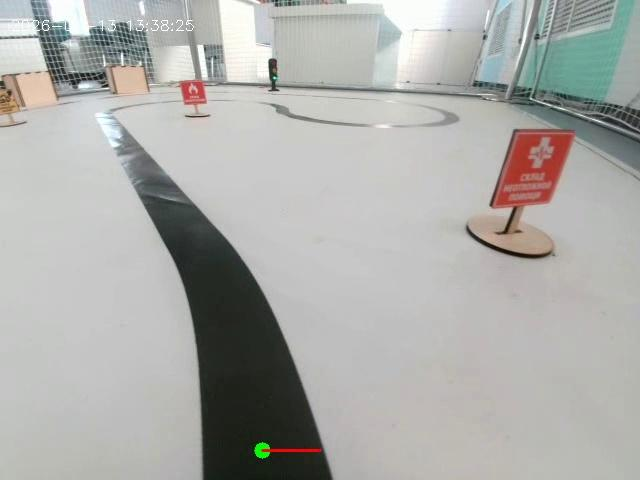fire: (173, 74, 216, 134)
industrial: (0, 74, 30, 136)
medical: (470, 114, 589, 274)
